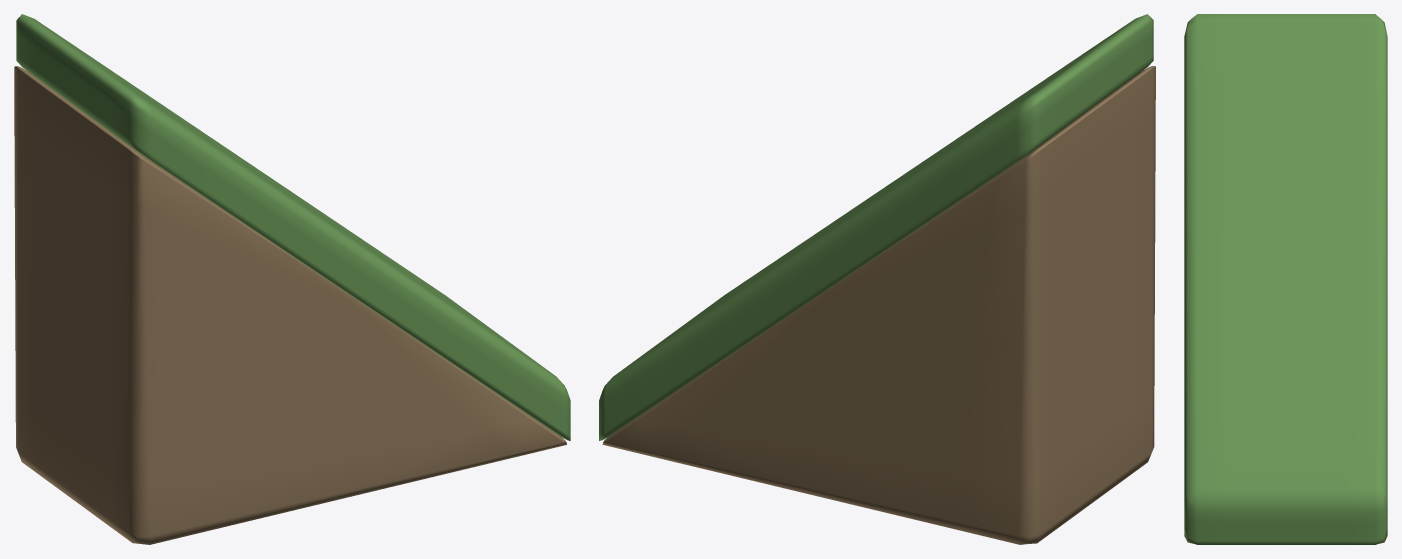
Rendered from rampa.fbx.
3 renders of one model, left to right at view 1: azimuth 30°, elevation 25°; view 2: azimuth 150°, elevation 25°; view 3: azimuth 270°, elevation 25°, orthographic. The views are drawn at different scales.
Visible parts, largest first — view 1: pCube3; view 2: pCube3; view 3: pCube3.
Part boxes in pixels (box(x1,y1,x2,y2)): pCube3: box(14, 14, 570, 544); pCube3: box(599, 14, 1155, 544); pCube3: box(1184, 14, 1387, 544).
Size of the model in its own units: 8 by 7.87 by 4.
